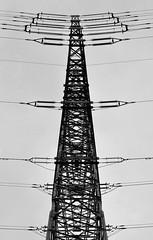power_tower: (21, 12, 133, 240)
